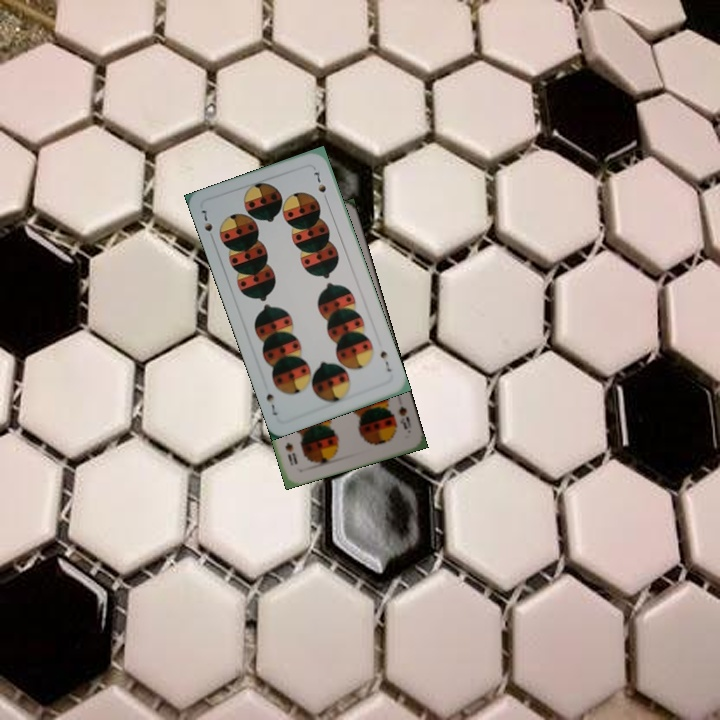S7: (197, 206, 217, 244), (376, 347, 394, 374)
S8: (394, 402, 414, 432)
